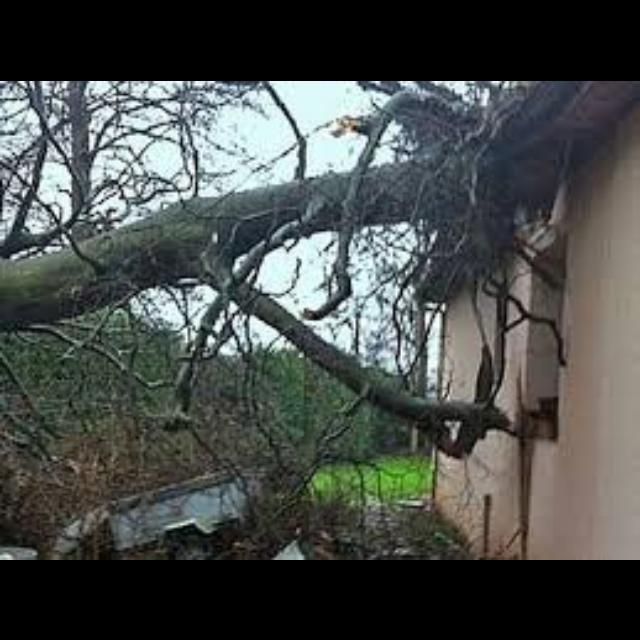Fallen Tree: (0, 147, 516, 330)
